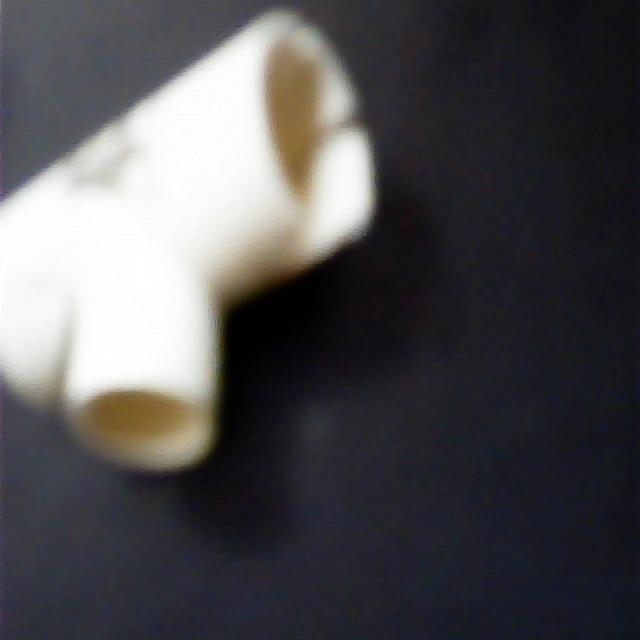Defective: (276, 86, 379, 178), (38, 304, 100, 417), (64, 147, 147, 212)
